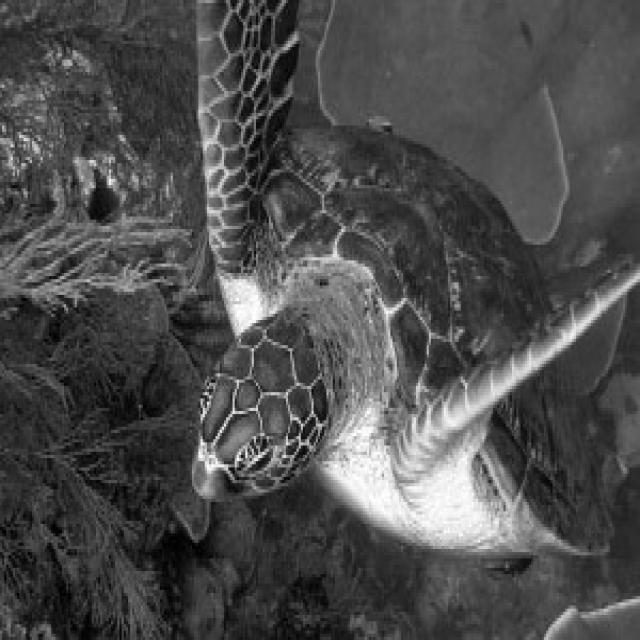Sea turtle: (162, 0, 640, 602)
